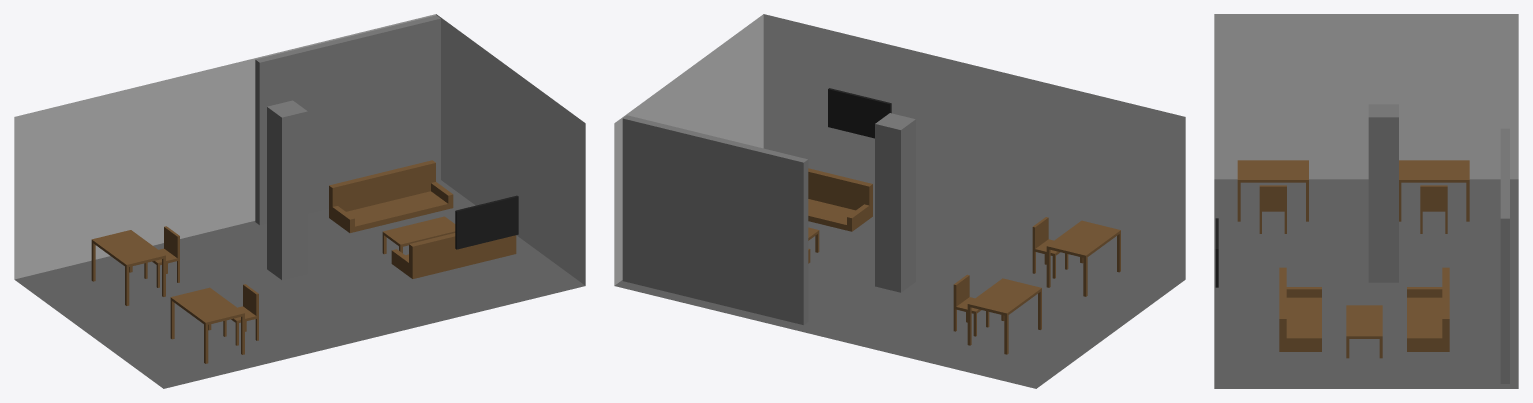
File: fullroom.glb
3 renders of one model, left to right at view 1: azimuth 30°, elevation 25°; view 2: azimuth 150°, elevation 25°; view 3: azimuth 270°, elevation 25°, orthographic.
Parts seen in each view (by area): view 1: walls, floor, partition_a, Sofa, pillar_zone1, TableChair, led_tv; view 2: walls, floor, partition_a, pillar_zone1, TableChair, Sofa, led_tv; view 3: floor, walls, Sofa, TableChair, pillar_zone1, partition_a, led_tv.
Part boxes in pixels (bbox=[...]): walls: bbox=[14, 14, 585, 285]; floor: bbox=[14, 180, 585, 388]; partition_a: bbox=[255, 15, 440, 225]; Sofa: bbox=[329, 160, 516, 278]; pillar_zone1: bbox=[267, 100, 307, 279]; TableChair: bbox=[91, 226, 258, 363]; led_tv: bbox=[455, 195, 518, 249]; walls: bbox=[614, 14, 1185, 285]; floor: bbox=[614, 203, 1185, 388]; partition_a: bbox=[622, 115, 808, 325]; pillar_zone1: bbox=[875, 113, 915, 292]; TableChair: bbox=[953, 217, 1120, 354]; Sofa: bbox=[808, 168, 872, 263]; led_tv: bbox=[828, 88, 891, 138]; floor: bbox=[1214, 179, 1518, 388]; walls: bbox=[1214, 14, 1518, 179]; Sofa: bbox=[1279, 267, 1449, 358]; TableChair: bbox=[1237, 160, 1469, 233]; pillar_zone1: bbox=[1368, 104, 1398, 282]; partition_a: bbox=[1500, 128, 1509, 383]; led_tv: bbox=[1215, 218, 1218, 287].
Bounding box in the file's own units: 8.15 × 3.11 × 5.
